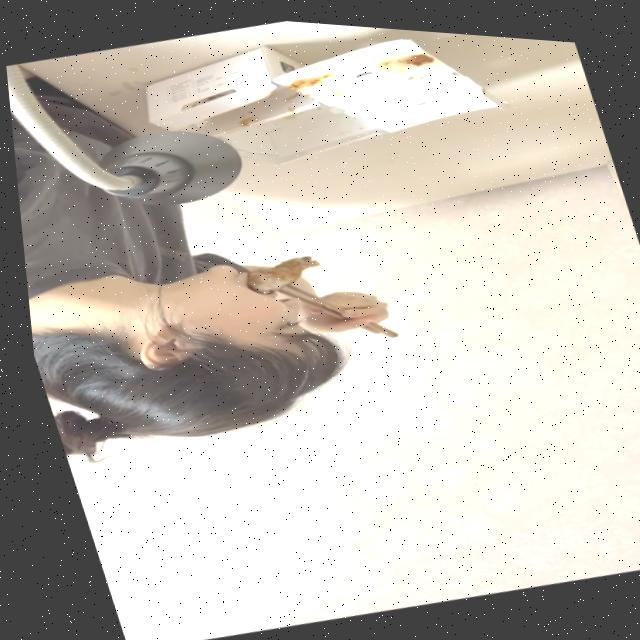eating-person: (0, 0, 532, 558)
